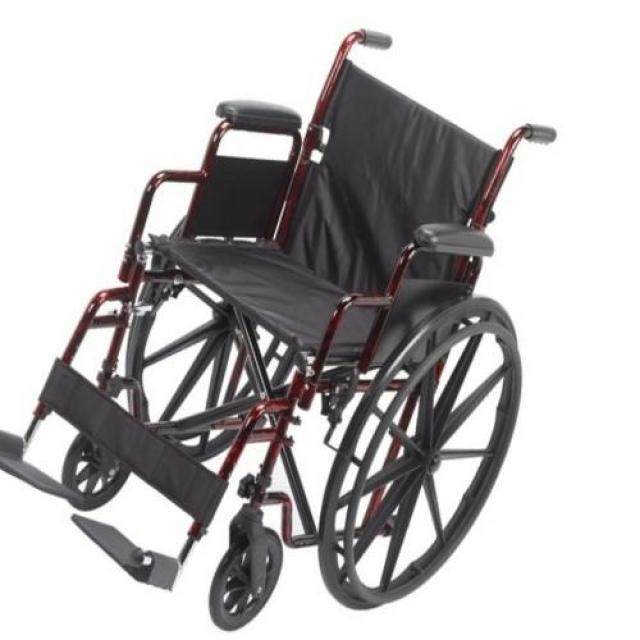wheelchair: (0, 32, 575, 640)
